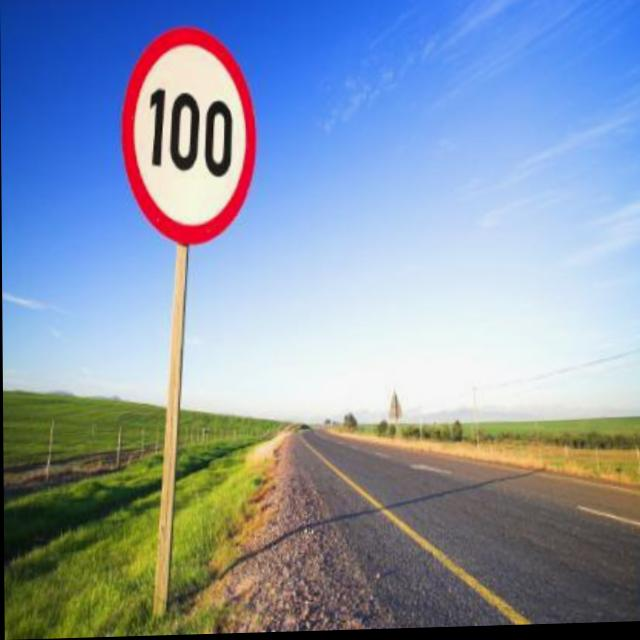limit100: (113, 18, 261, 253)
